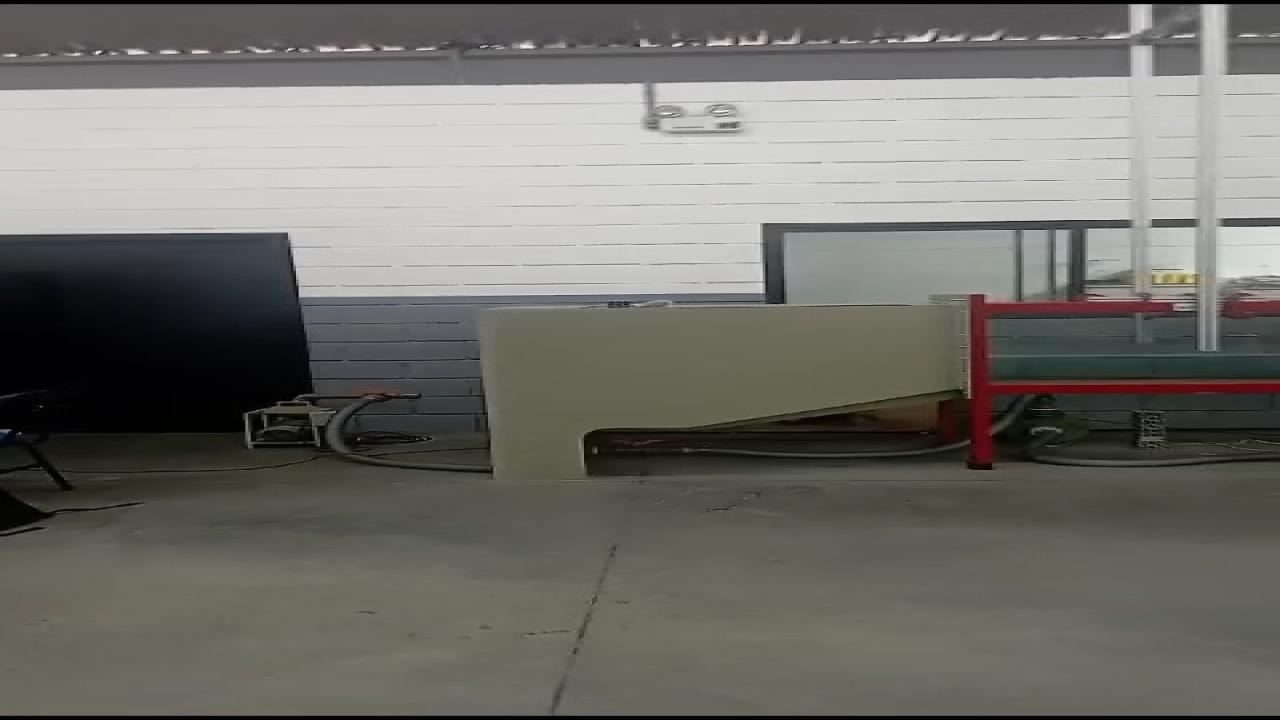Cube: (606, 300, 630, 308)
